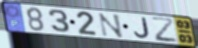2: (77, 11, 99, 37)
3: (47, 9, 72, 34)
8: (26, 7, 46, 32)
J: (133, 17, 151, 40)
N: (97, 12, 125, 39)
Z: (150, 17, 180, 44)
